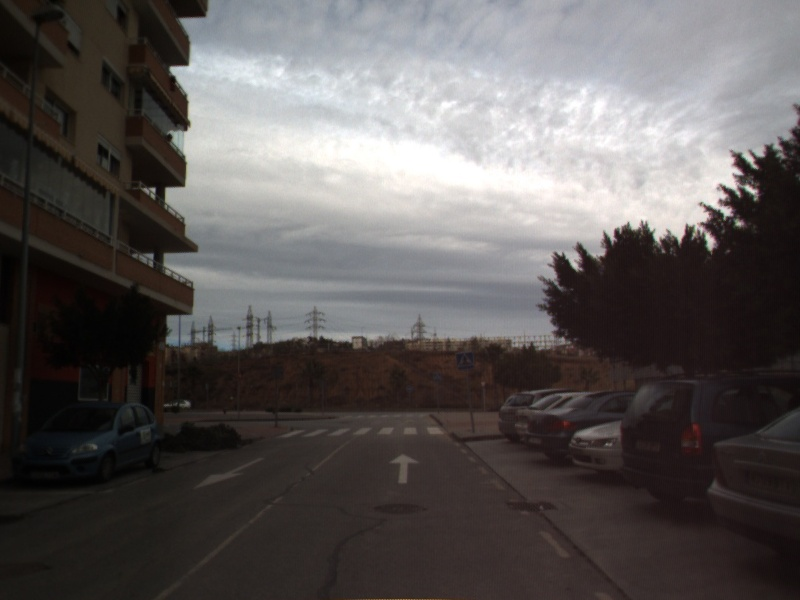STRAIGHT: (387, 451, 423, 485)
